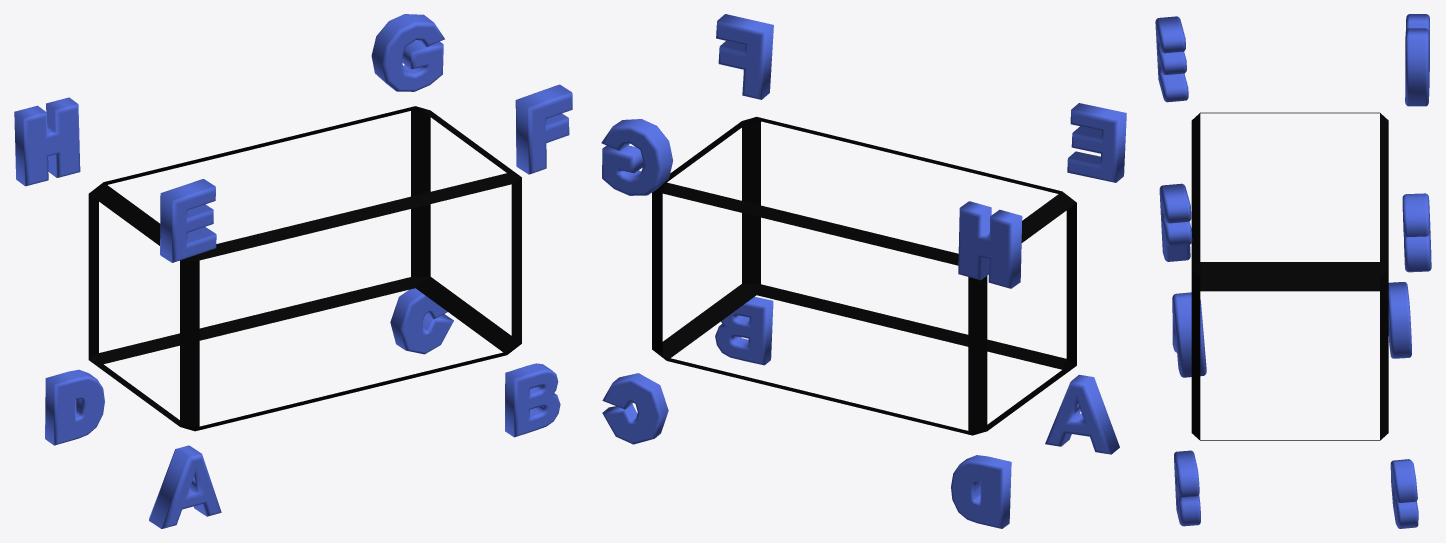
File: balok1.glb
The picture shows the model from 3 angles, left to right: view 1: azimuth 30°, elevation 25°; view 2: azimuth 150°, elevation 25°; view 3: azimuth 270°, elevation 25°; orthographic projection. The views are drawn at different scales.
Parts seen in each view (by area): view 1: Cube, Text.007, Text.006, Text.004, Text.003, Text.005, Text.009, Text.001, Text.002; view 2: Cube, Text.007, Text.006, Text.004, Text.003, Text.005, Text.002, Text.009, Text.001; view 3: Cube, Text.004, Text.007, Text.005, Text.006, Text.009, Text.001, Text.002, Text.003.
Part boxes in pixels (<box>): Cube: <box>88,106,521,431</box>; Text.007: <box>14,97,80,186</box>; Text.006: <box>371,14,444,91</box>; Text.004: <box>160,179,216,262</box>; Text.003: <box>45,369,104,445</box>; Text.005: <box>515,84,572,174</box>; Text.009: <box>149,445,221,528</box>; Text.001: <box>505,363,560,437</box>; Text.002: <box>390,288,453,354</box>; Cube: <box>652,116,1076,435</box>; Text.007: <box>958,201,1022,288</box>; Text.006: <box>601,119,672,195</box>; Text.004: <box>1067,103,1126,182</box>; Text.003: <box>951,455,1011,528</box>; Text.005: <box>716,14,773,99</box>; Text.002: <box>602,373,668,444</box>; Text.009: <box>1045,374,1119,454</box>; Text.001: <box>715,296,773,365</box>; Cube: <box>1191,112,1388,440</box>; Text.004: <box>1155,16,1188,102</box>; Text.007: <box>1405,14,1429,106</box>; Text.005: <box>1159,183,1192,261</box>; Text.006: <box>1402,193,1431,272</box>; Text.009: <box>1172,292,1206,377</box>; Text.001: <box>1174,450,1200,526</box>; Text.002: <box>1390,459,1418,528</box>; Text.003: <box>1388,282,1411,358</box>.
Bounding box in the file's own units: 4.9 × 3.77 × 2.8.
